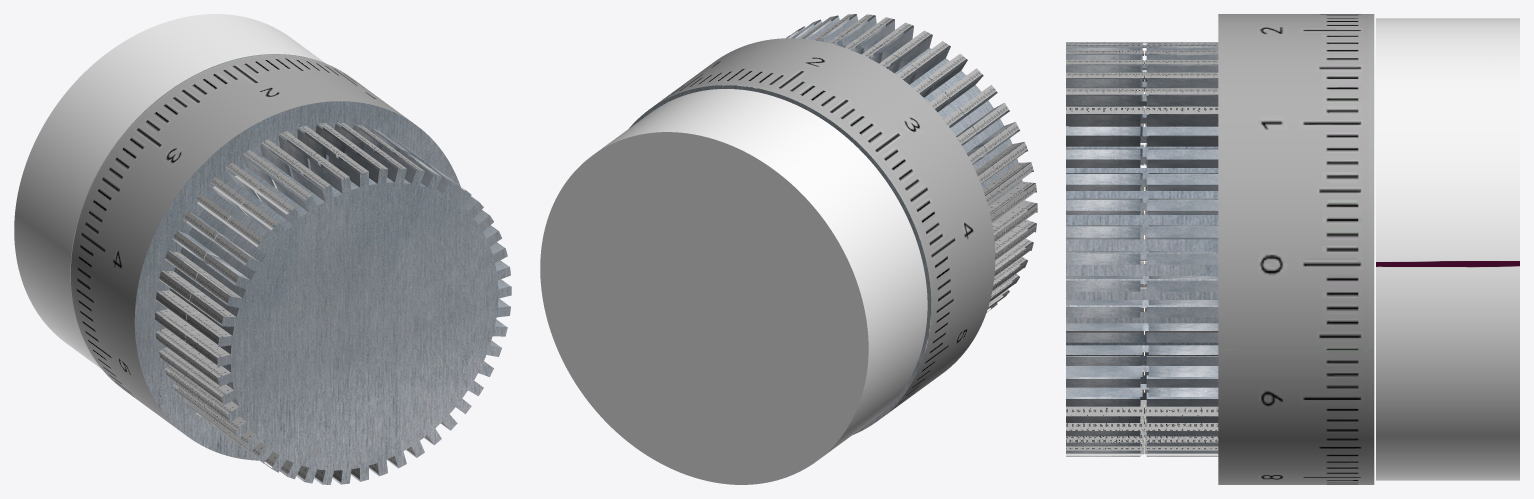
File: Spain_Small.FBX
3 views of the same model, side by side, from view 1: azimuth 30°, elevation 25°; view 2: azimuth 150°, elevation 25°; view 3: azimuth 270°, elevation 25° (orthographic). The views are drawn at different scales.
Visible parts, largest first — view 1: spain, spain_small, connect; view 2: connect, spain_small, spain; view 3: spain_small, connect, spain.
Part boxes in pixels (box(x1,y1,x2,y2)): spain: box(155, 122, 511, 484); spain_small: box(70, 54, 460, 460); connect: box(14, 14, 325, 368); connect: box(540, 89, 927, 484); spain_small: box(629, 38, 995, 434); spain: box(724, 14, 1037, 352); spain_small: box(1218, 14, 1374, 484); connect: box(1376, 18, 1519, 480); spain: box(1066, 42, 1218, 456).
Bounding box in the file's own units: 6.17 × 6.17 × 5.94.
2 materials, 2 textured.
